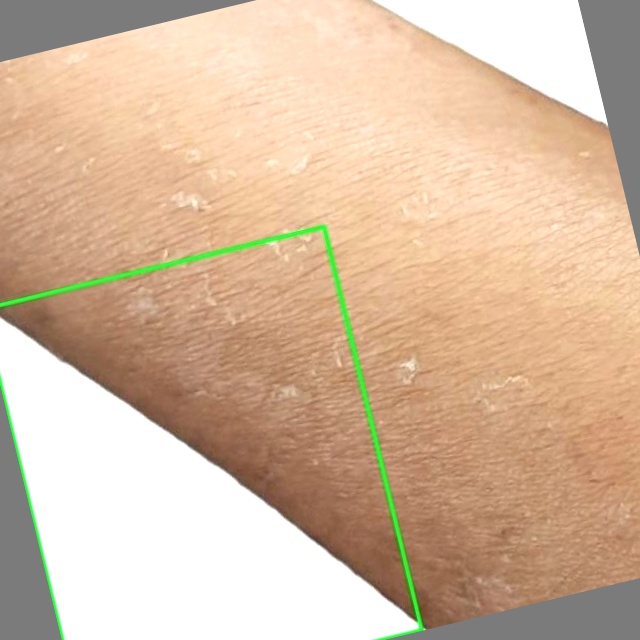Tinea Corporis: (0, 226, 421, 639)
